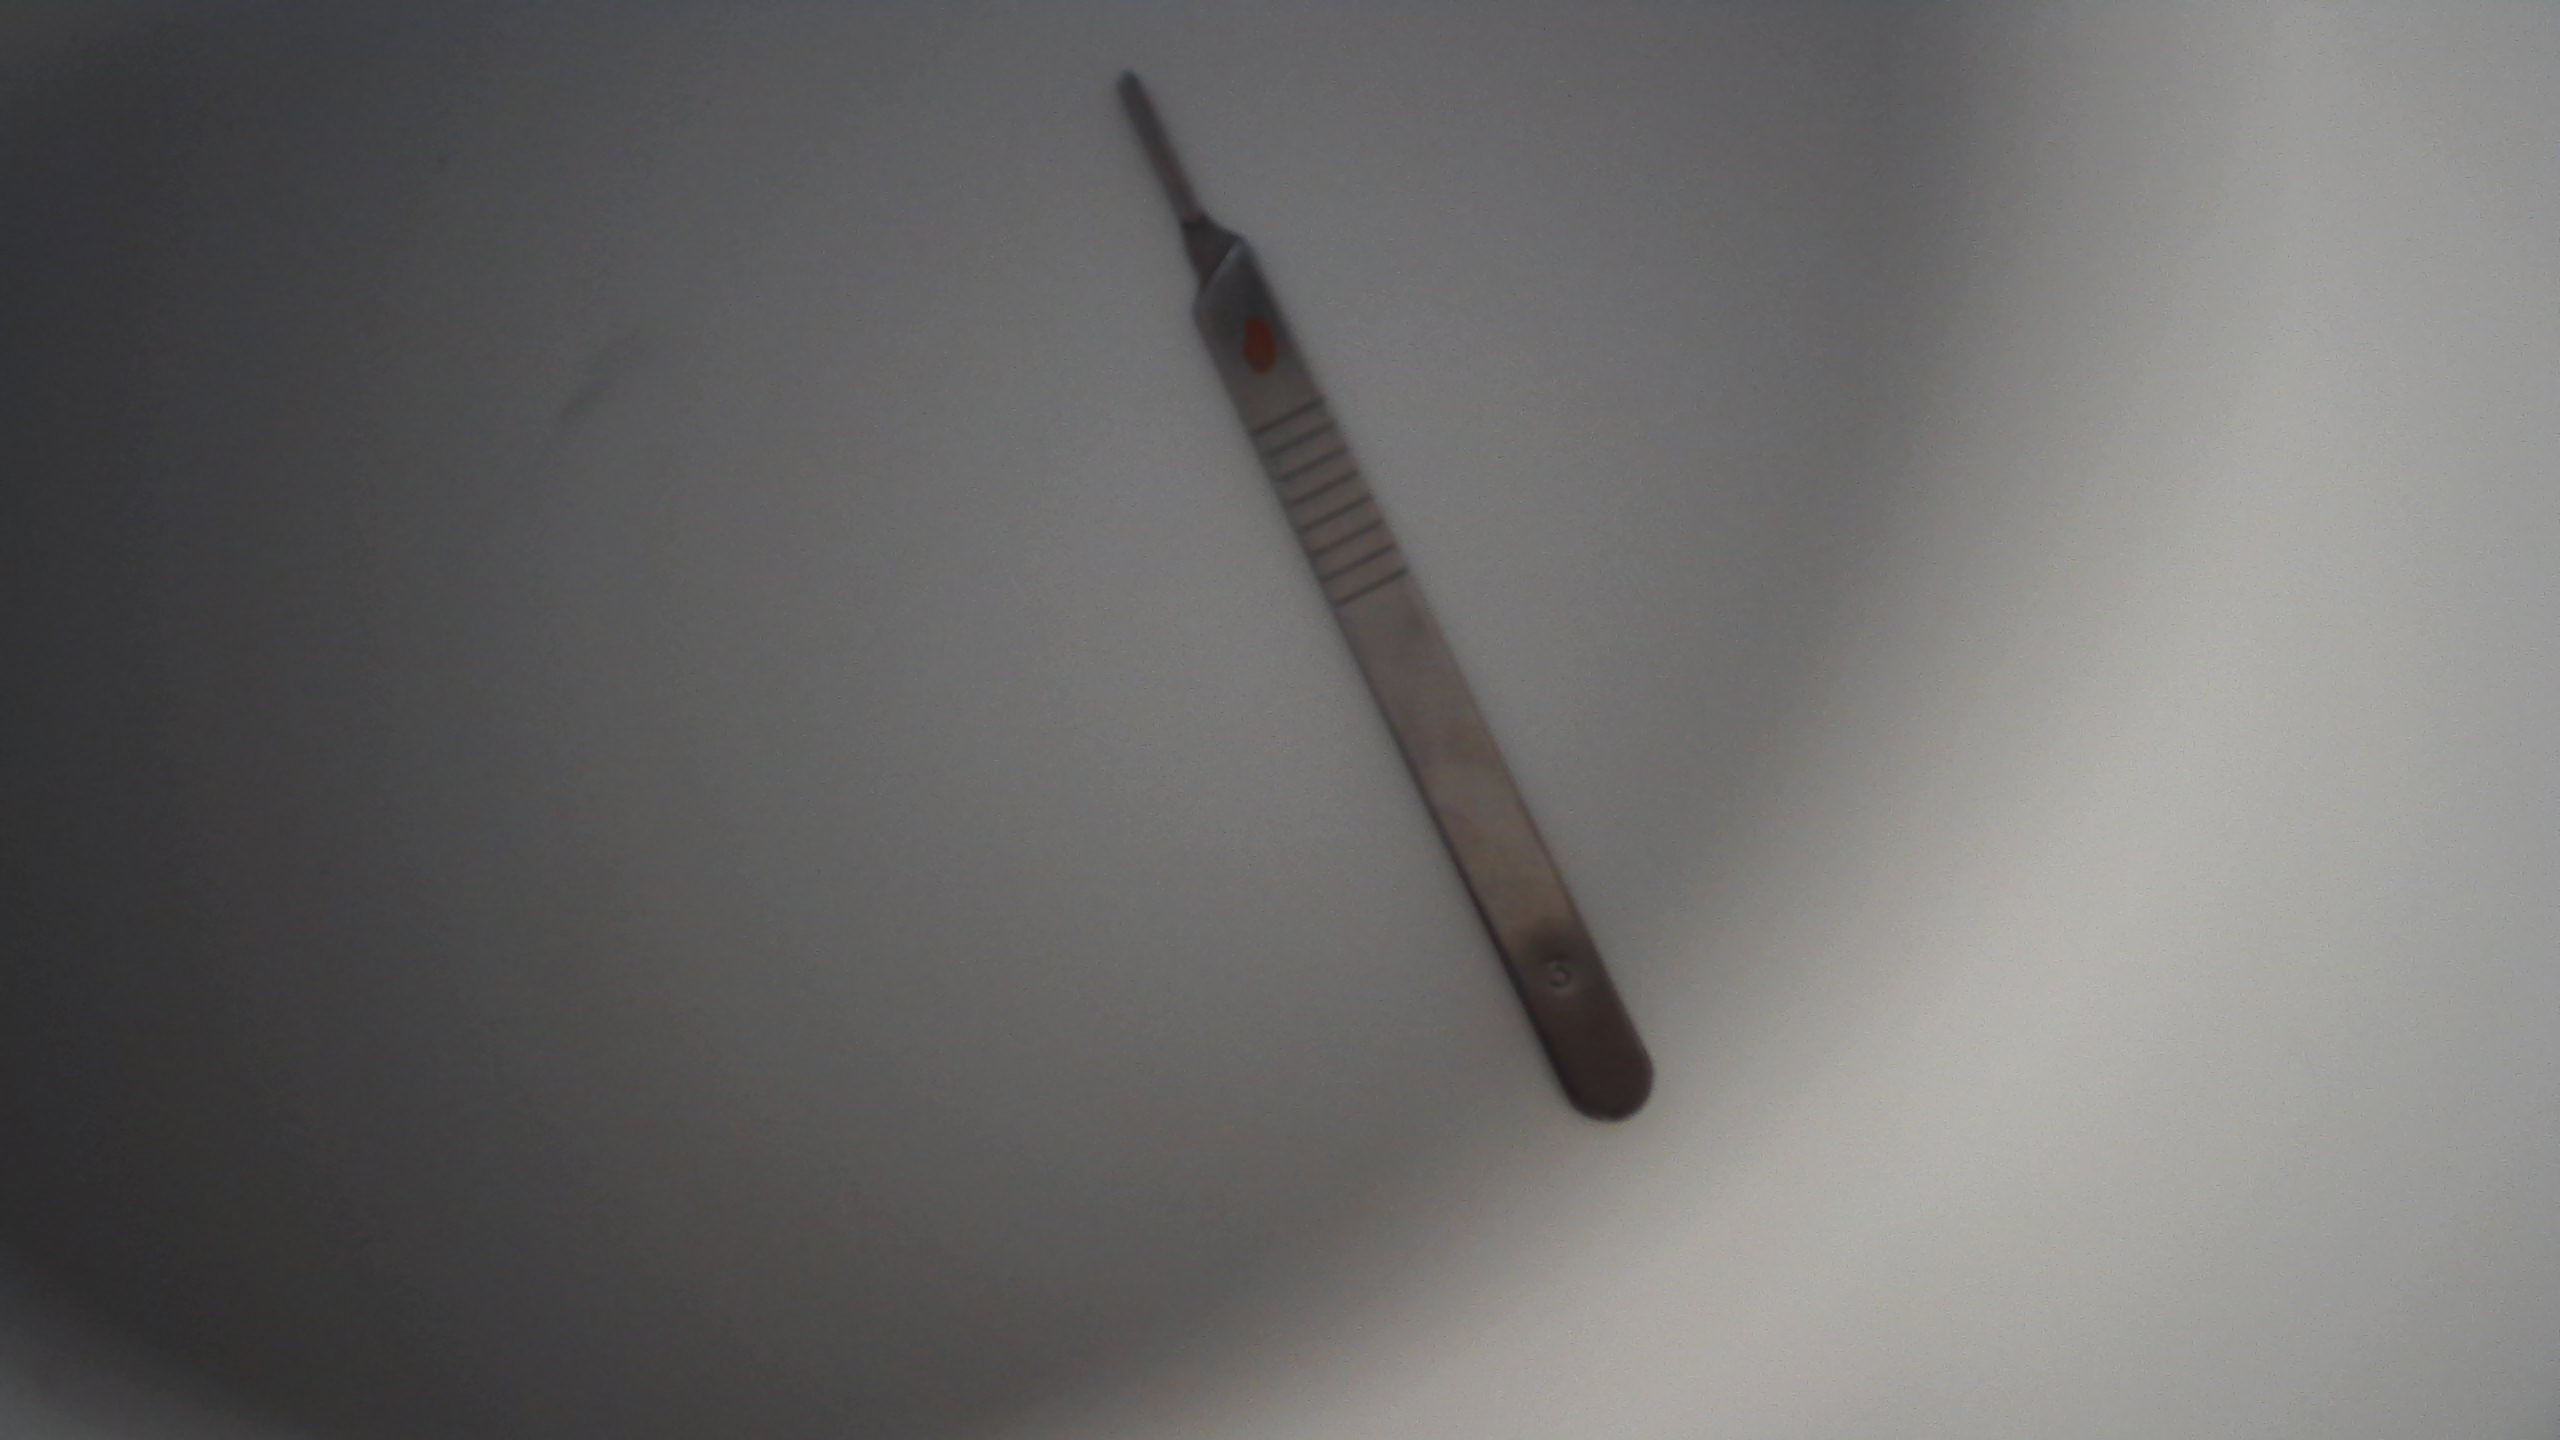Stain: (1225, 306, 1299, 390)
